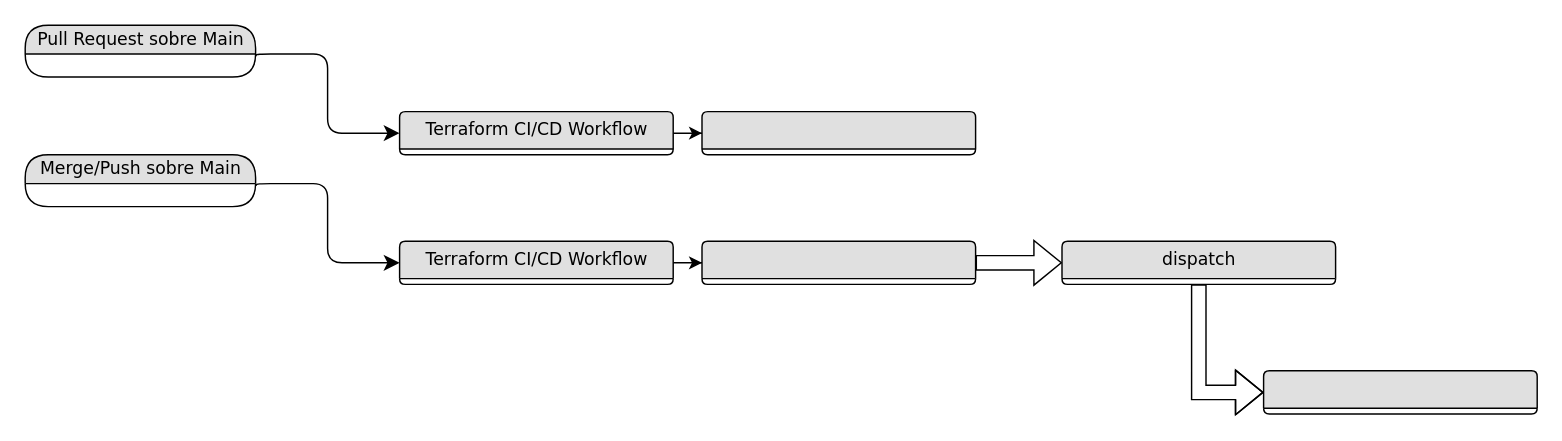
The diagram is 1562 pixels wide and 441 high, and some of its shapes have lost their labels. Here are the shapes that lost their labels. From the top down, the centre of each, then its label:
the point at 838,132: validate_terraform
the point at 838,262: deploy_to_prod
the point at 1399,391: Deploy
